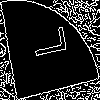L: (24, 25, 67, 61)
